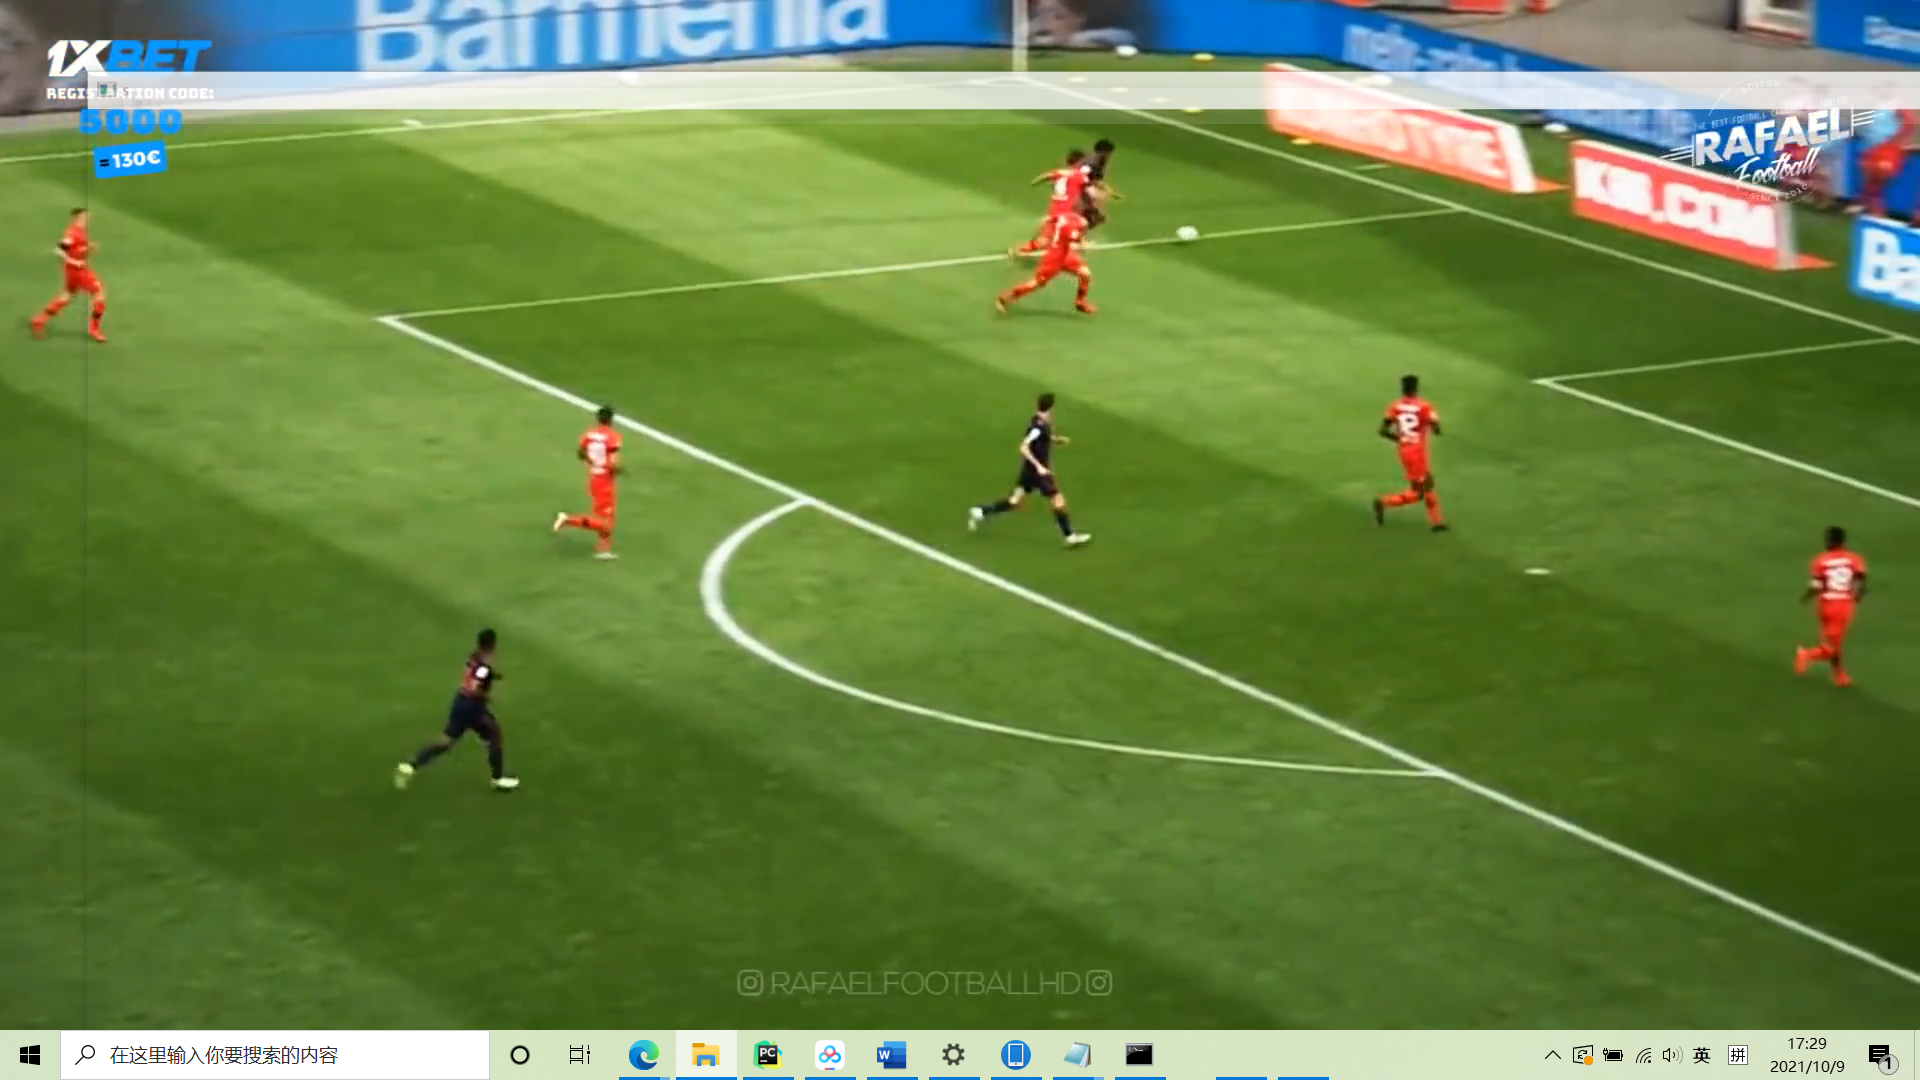ft: (1174, 222, 1200, 247)
